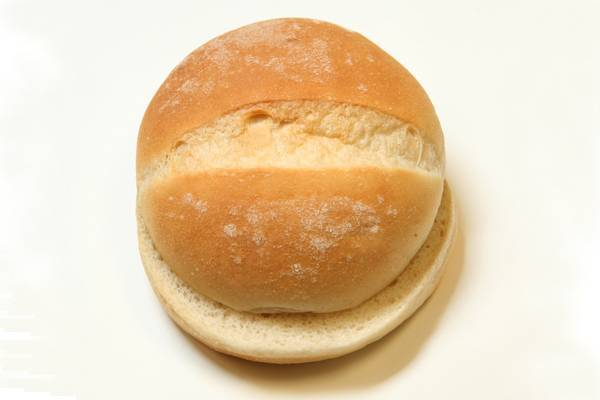hamburger_buns: (135, 13, 477, 387)
